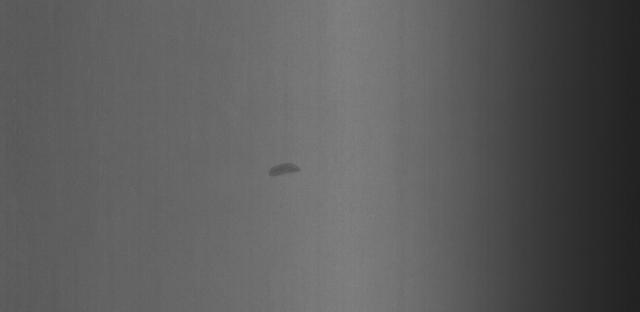oil_spot: (263, 152, 319, 189)
